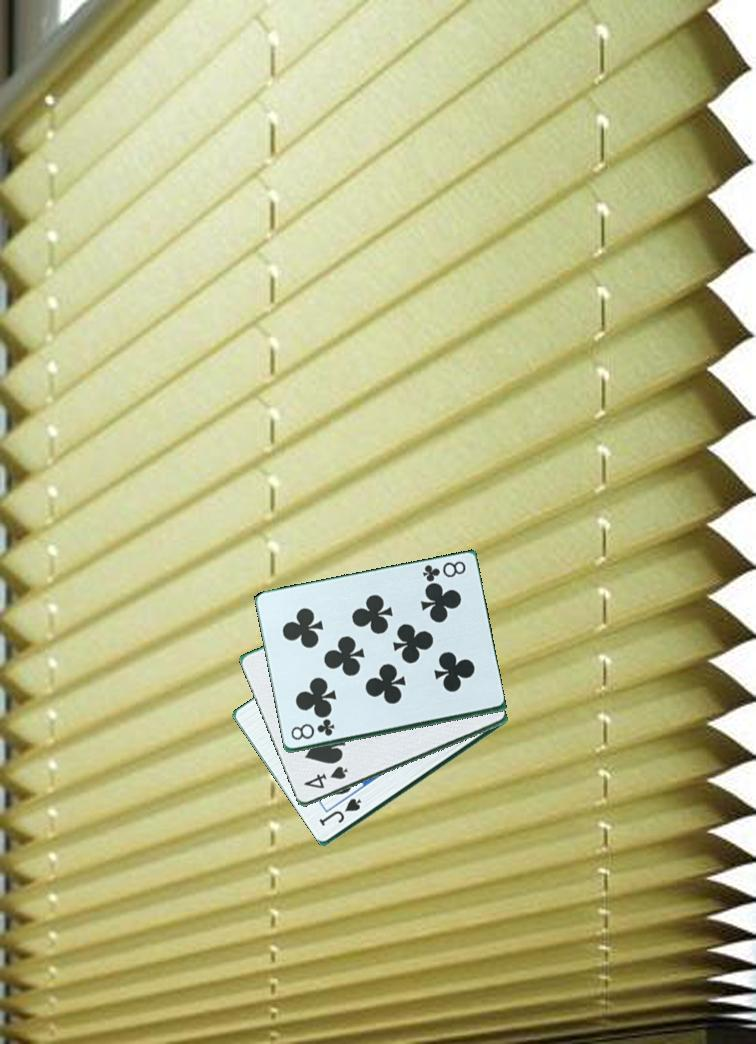4s: (300, 763, 351, 792)
8c: (416, 558, 469, 585), (287, 718, 337, 743)
js: (316, 795, 364, 829)
